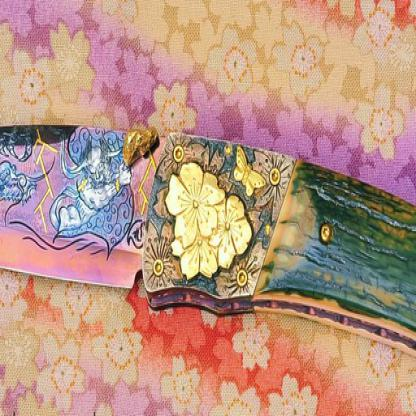knife: (0, 118, 415, 412)
